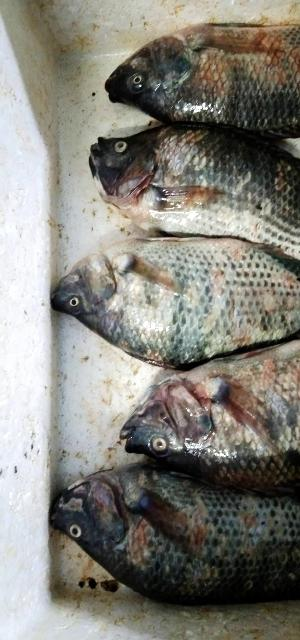Columnaris Disease: (50, 463, 300, 604), (51, 238, 300, 366), (89, 123, 300, 259), (121, 340, 300, 493), (105, 24, 300, 138)
